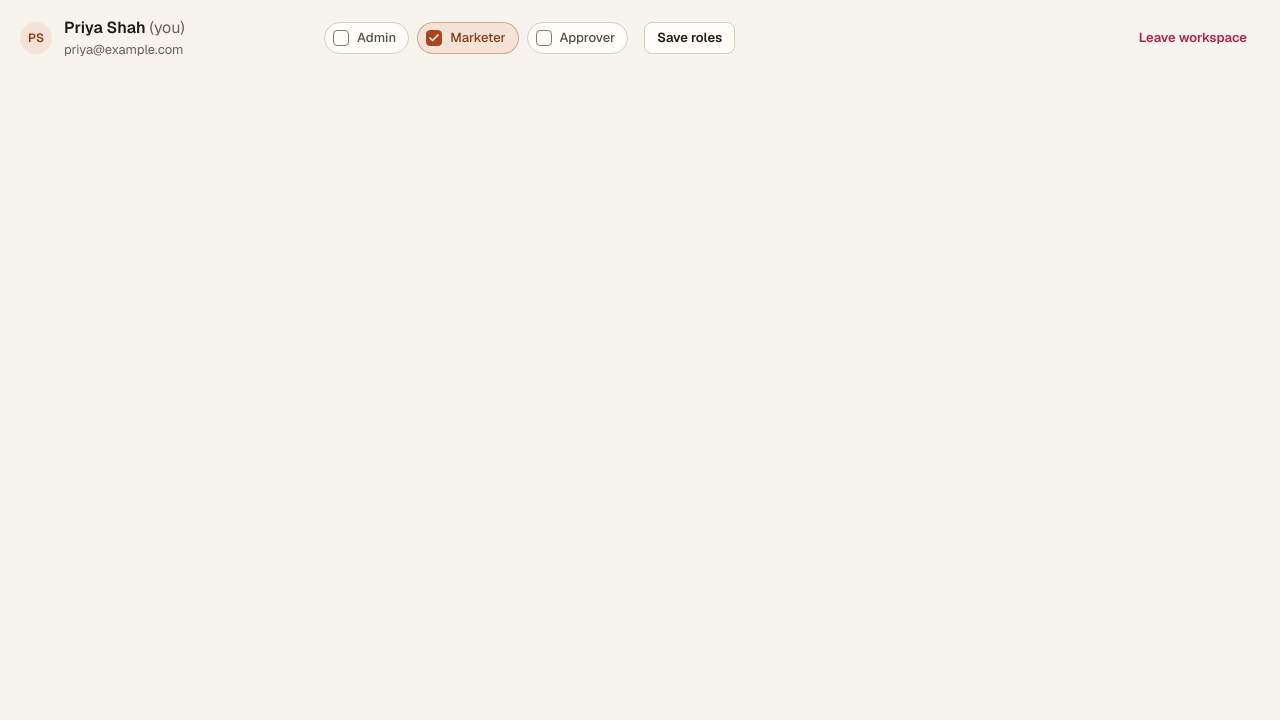
Scenario: shows the reason when leaving is refused
The width and height of the screenshot is (1280, 720).
Click the button "Leave workspace": coordinates (1193, 38) [1126,22,1260,54]
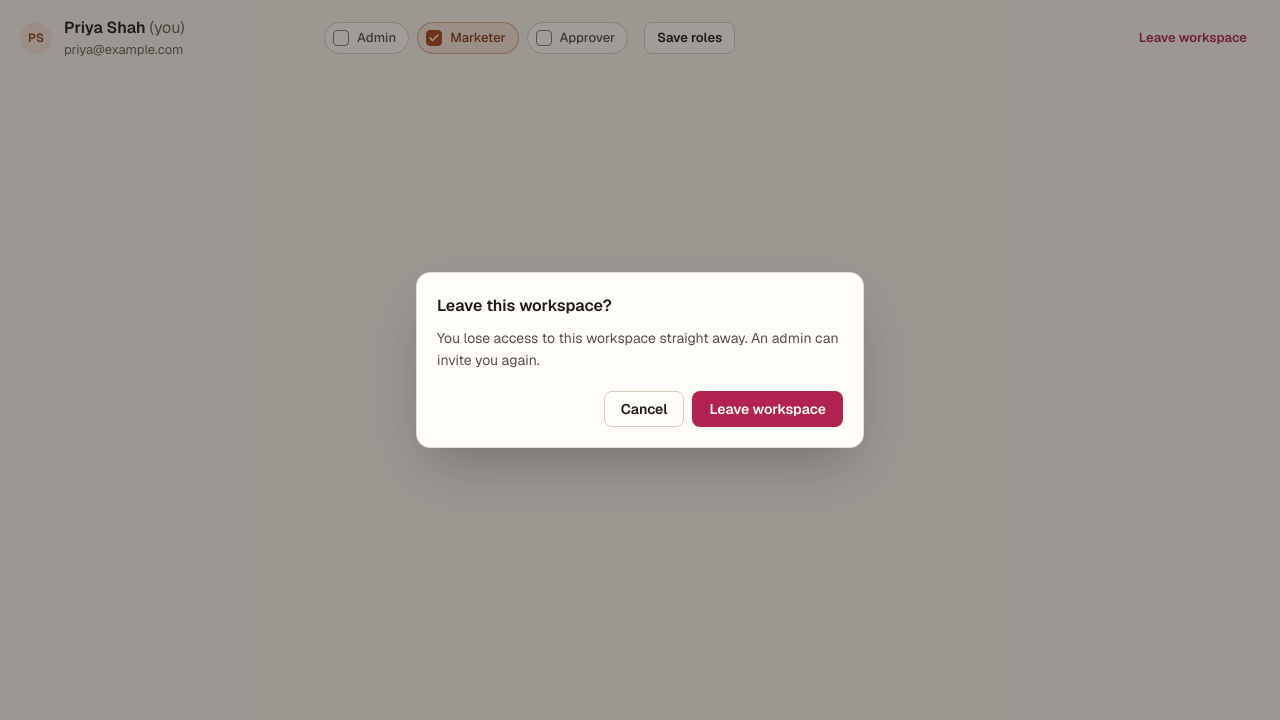
Click the button "Leave workspace": coordinates (768, 409) [692,391,843,427]
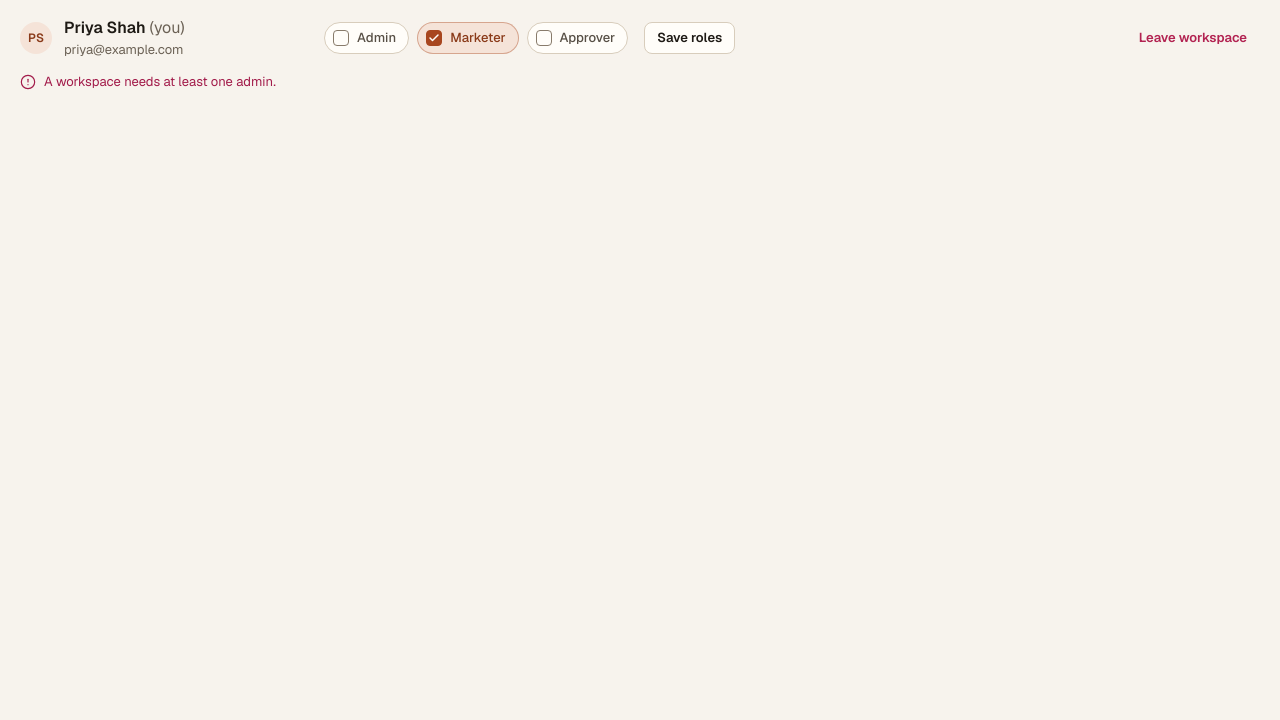
Expected: the message reads "A workspace needs at least one admin.", [44,73,276,90]
